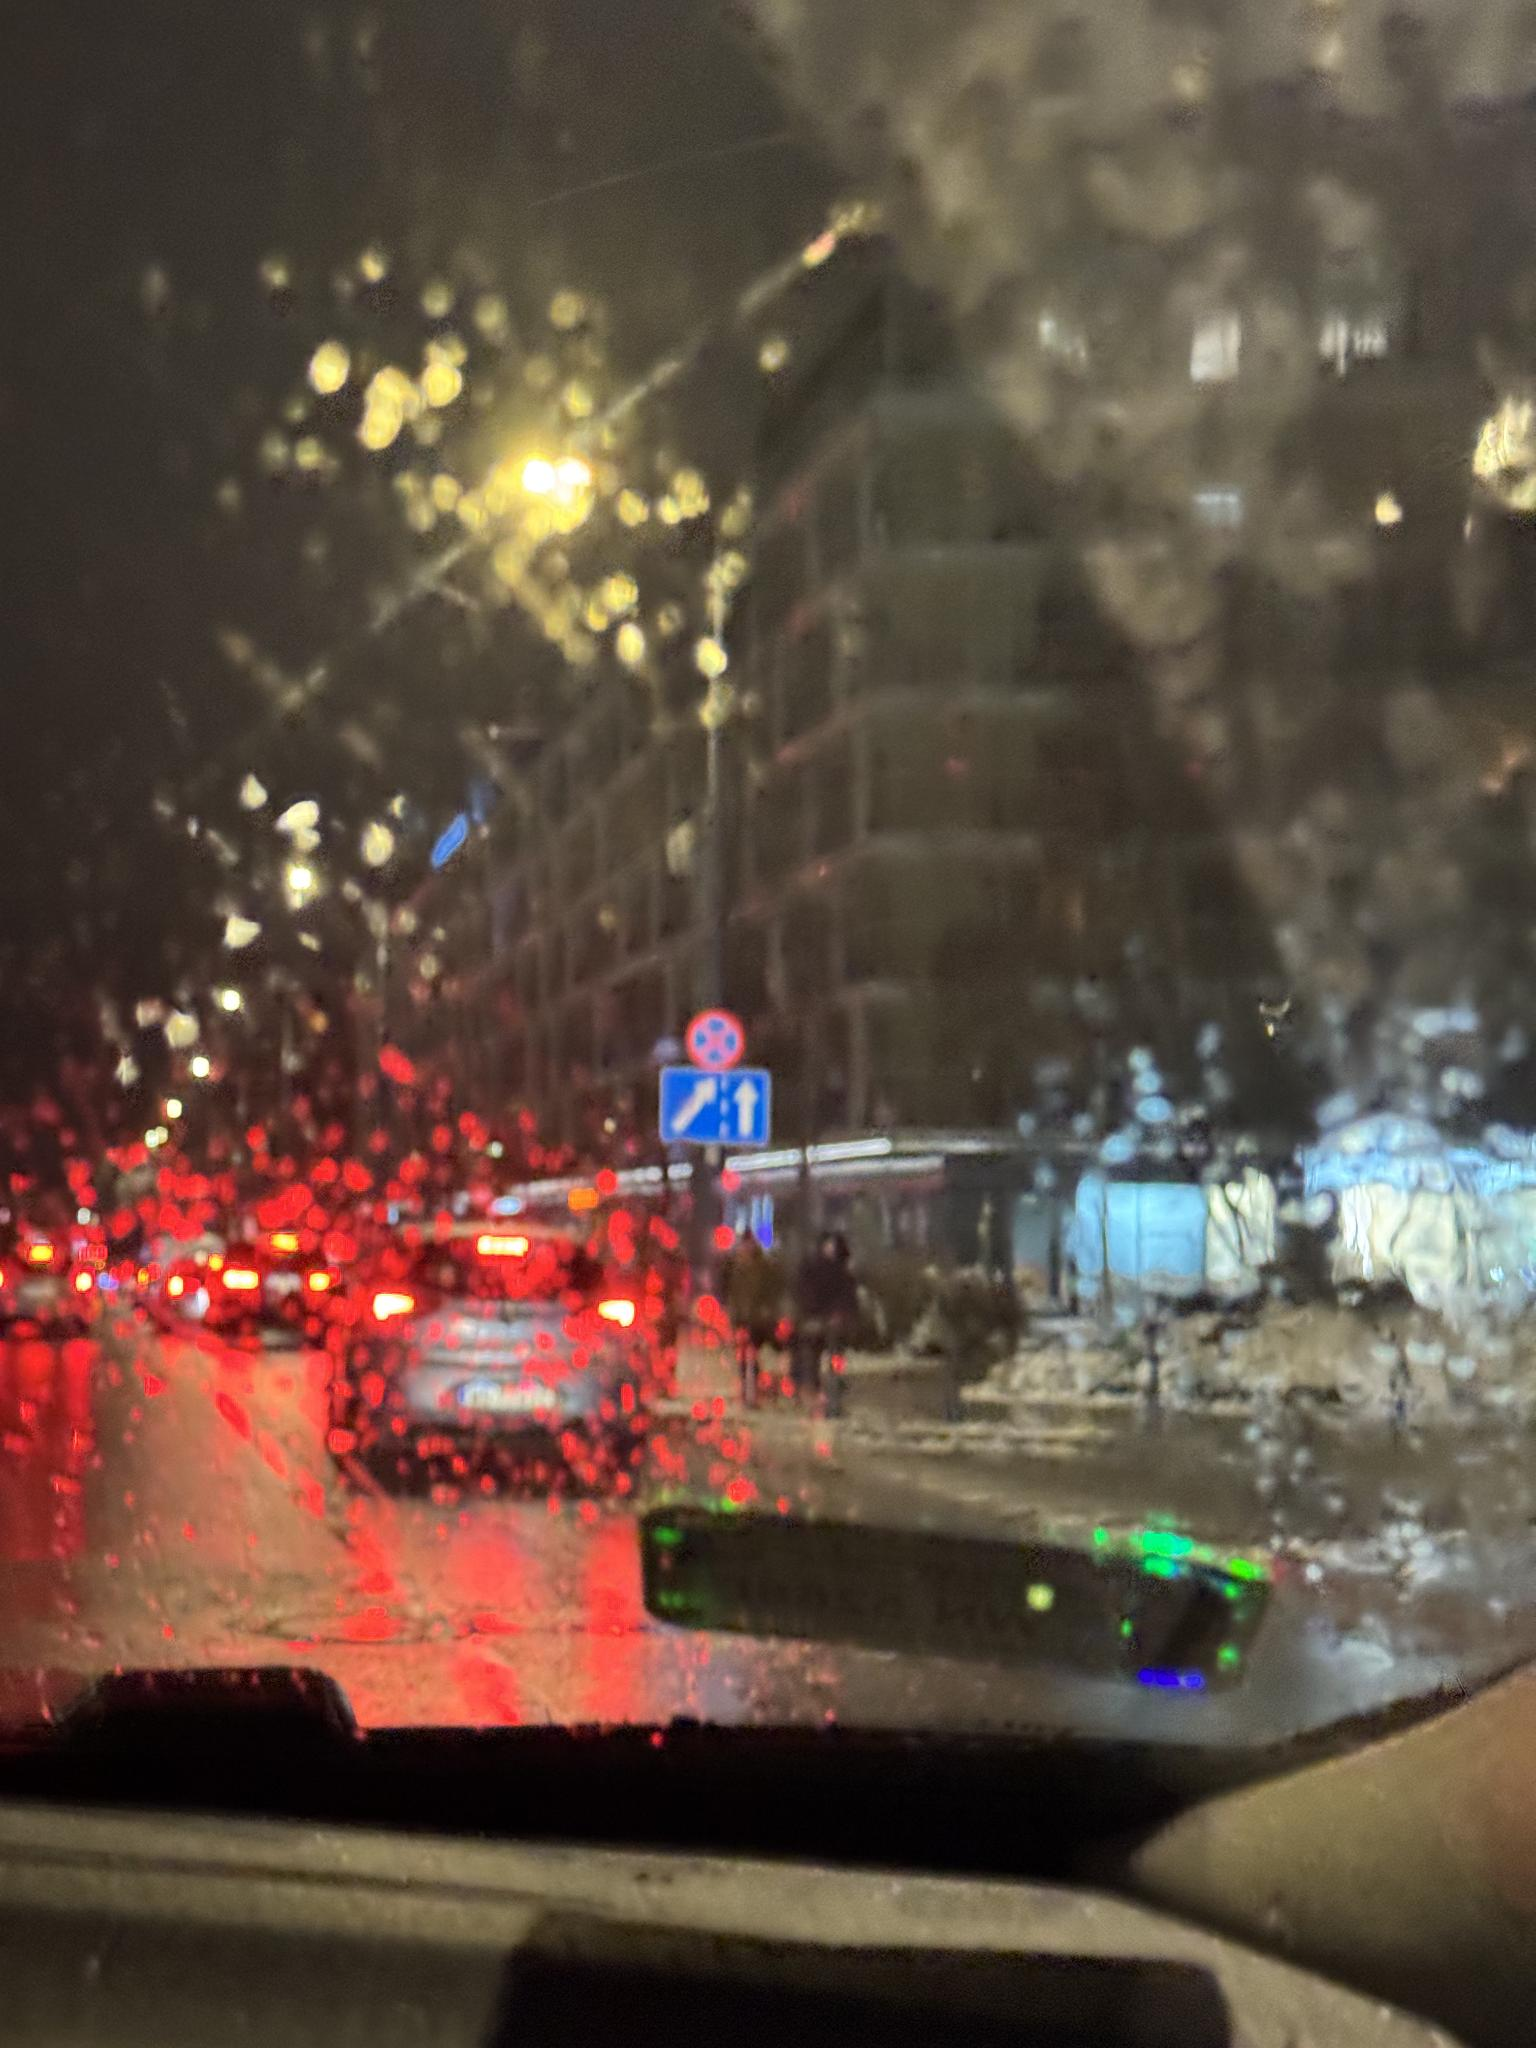other: (658, 1066, 773, 1145)
prohibitory: (684, 1008, 747, 1071)
